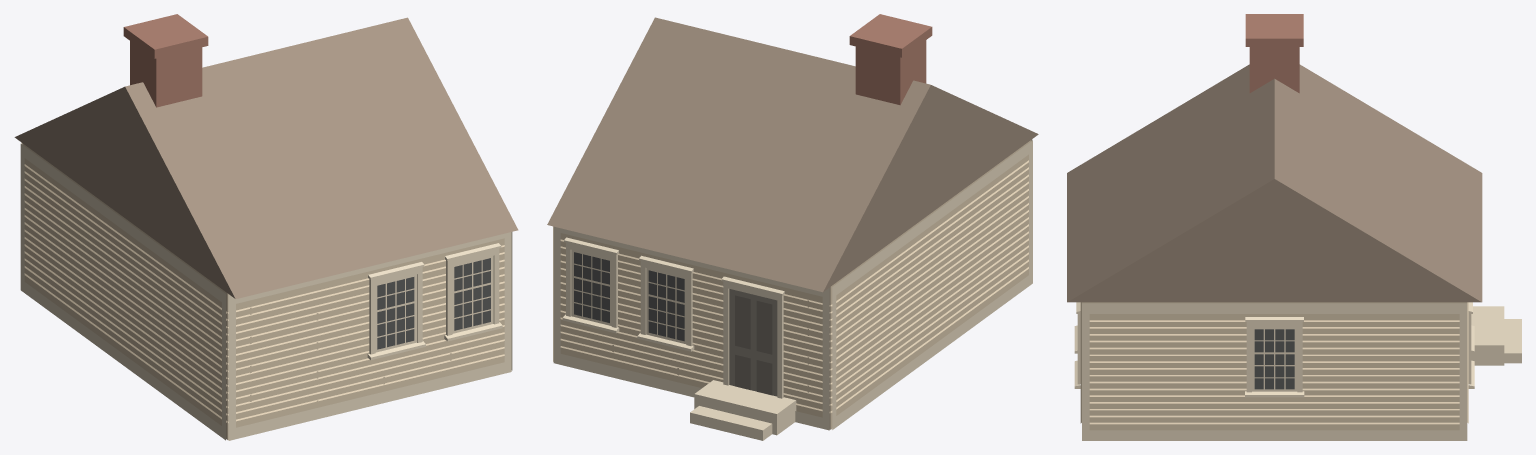
Rendered from recon_1835_north_d3_055__inferred_1835.glb.
The picture shows the model from 3 angles, left to right: view 1: azimuth 30°, elevation 25°; view 2: azimuth 150°, elevation 25°; view 3: azimuth 270°, elevation 25°; orthographic projection. The views are drawn at different scales.
Visible parts, largest first — view 1: recon_1835_north_d3_055__inferred_1835; view 2: recon_1835_north_d3_055__inferred_1835; view 3: recon_1835_north_d3_055__inferred_1835.
Part boxes in pixels (bbox=[...]): recon_1835_north_d3_055__inferred_1835: bbox=[14, 14, 518, 440]; recon_1835_north_d3_055__inferred_1835: bbox=[547, 14, 1038, 440]; recon_1835_north_d3_055__inferred_1835: bbox=[1067, 14, 1521, 440].
Size of the model in its own units: 5.33 by 5.65 by 7.68.
